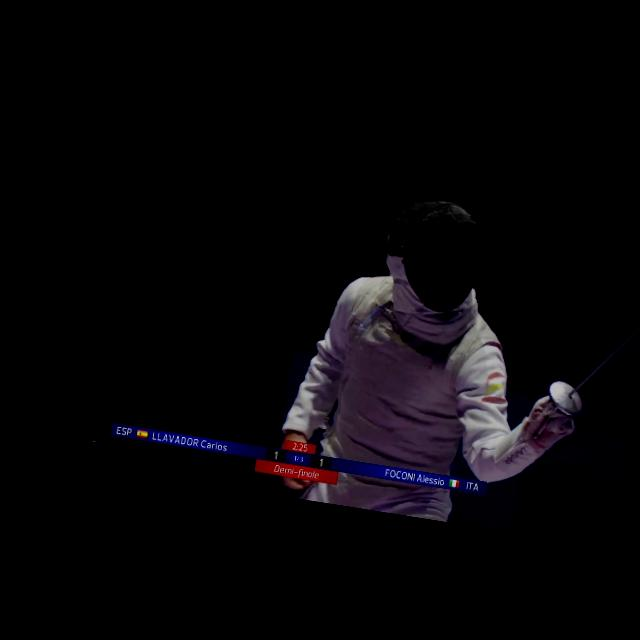blade: (523, 307, 640, 451)
